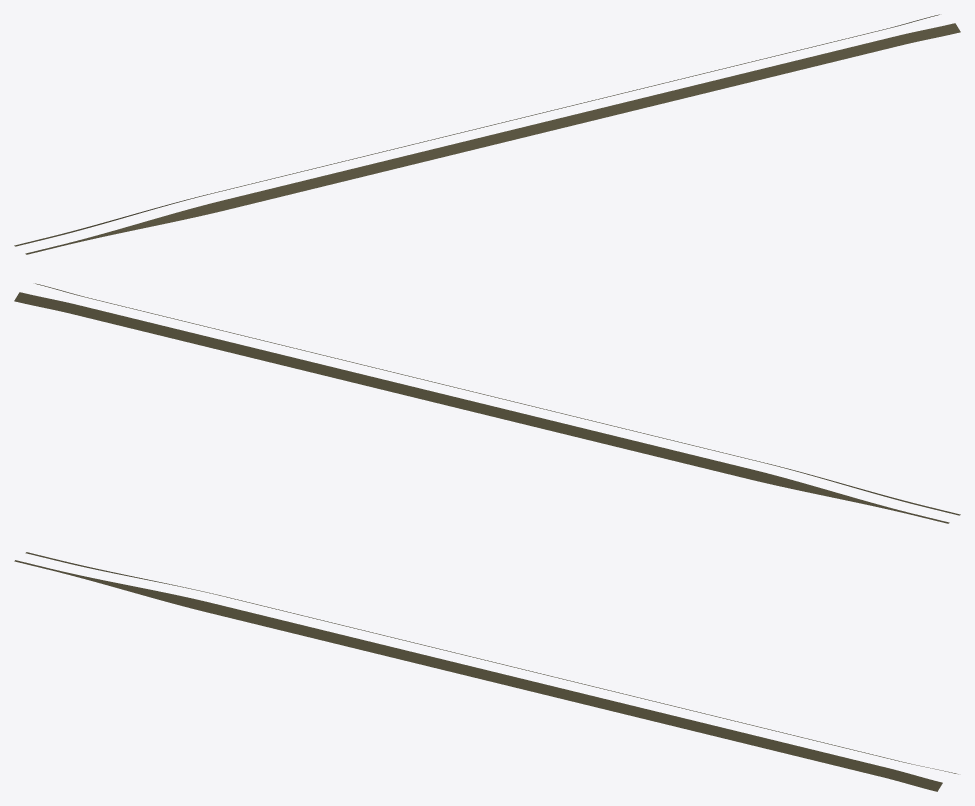
Rendered from original_to_subject2_earth.dae.
3 renders of one model, top to bottom at view 1: azimuth 30°, elevation 25°; view 2: azimuth 150°, elevation 25°; view 3: azimuth 330°, elevation 25°, orthographic.
Parts seen in each view (by area): view 1: original_to_subject2_earth_0_L1; view 2: original_to_subject2_earth_0_L1; view 3: original_to_subject2_earth_0_L1.
Part boxes in pixels (x1,y1,x2,y2): original_to_subject2_earth_0_L1: [14, 14, 960, 254]; original_to_subject2_earth_0_L1: [14, 283, 960, 523]; original_to_subject2_earth_0_L1: [14, 552, 958, 791].
Size of the model in its own units: 197 by 8.66 by 1.02.
